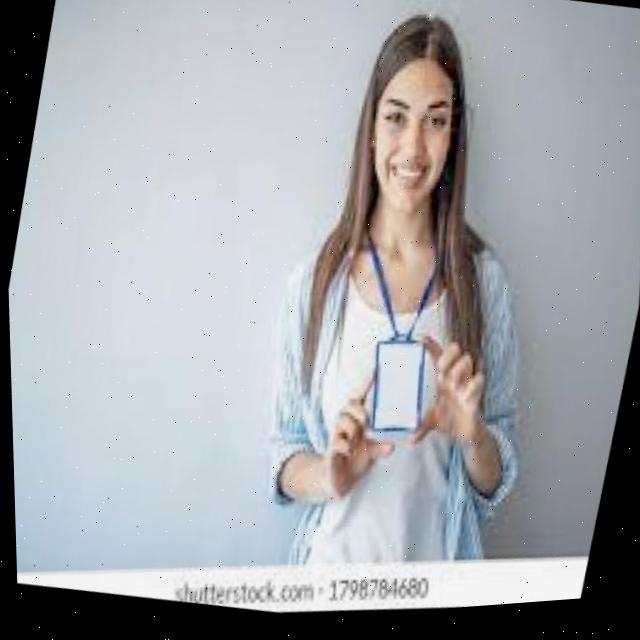id_card: (319, 219, 475, 458)
